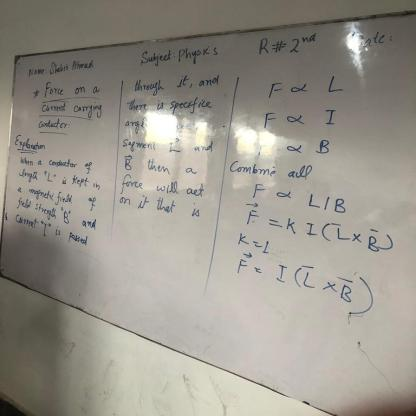Handwritten text: (12, 193, 101, 234), (10, 212, 96, 253), (12, 181, 103, 216), (224, 157, 316, 187), (11, 167, 108, 195), (137, 42, 223, 69), (117, 173, 206, 196), (15, 153, 100, 177), (115, 196, 206, 218), (23, 55, 98, 80), (124, 94, 215, 114), (132, 75, 223, 94), (121, 136, 219, 153), (299, 189, 352, 216), (123, 115, 195, 134), (38, 80, 106, 100), (119, 157, 200, 173), (37, 102, 108, 117), (283, 215, 319, 240), (12, 133, 53, 152), (323, 65, 346, 95), (261, 107, 282, 133), (248, 138, 275, 158), (320, 106, 343, 128), (30, 118, 72, 130), (270, 261, 290, 285), (242, 206, 263, 227), (313, 132, 333, 154), (265, 76, 282, 101), (234, 255, 249, 281), (248, 180, 266, 199), (234, 230, 253, 247)
Whiteboard: (0, 7, 416, 415)
